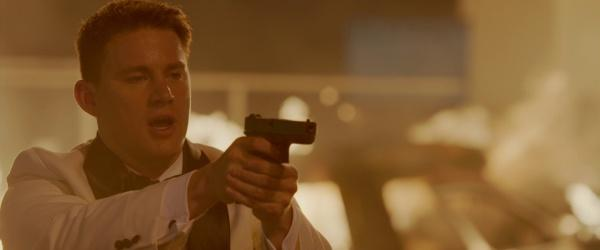Gun: (243, 114, 320, 163)
